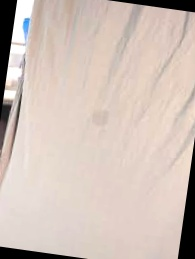oil: (83, 103, 119, 139)
